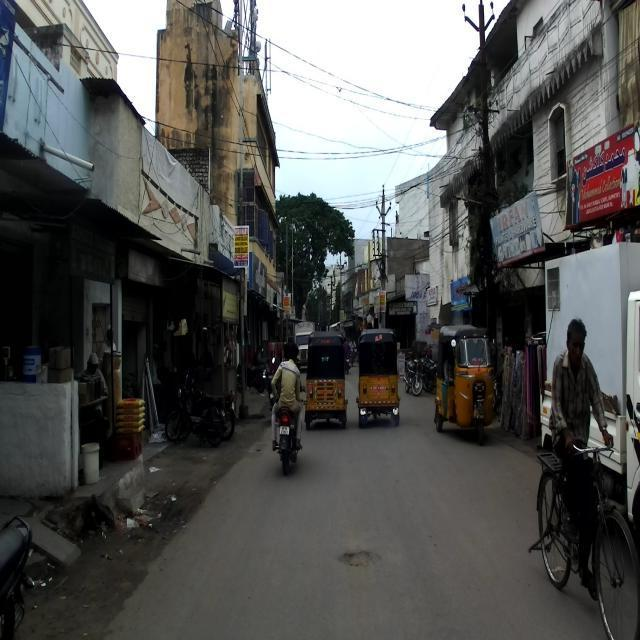Pothole: (335, 524, 404, 595)
